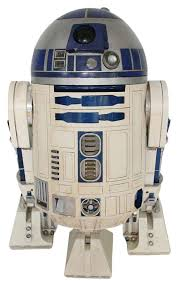r2d2: (8, 7, 171, 278)
